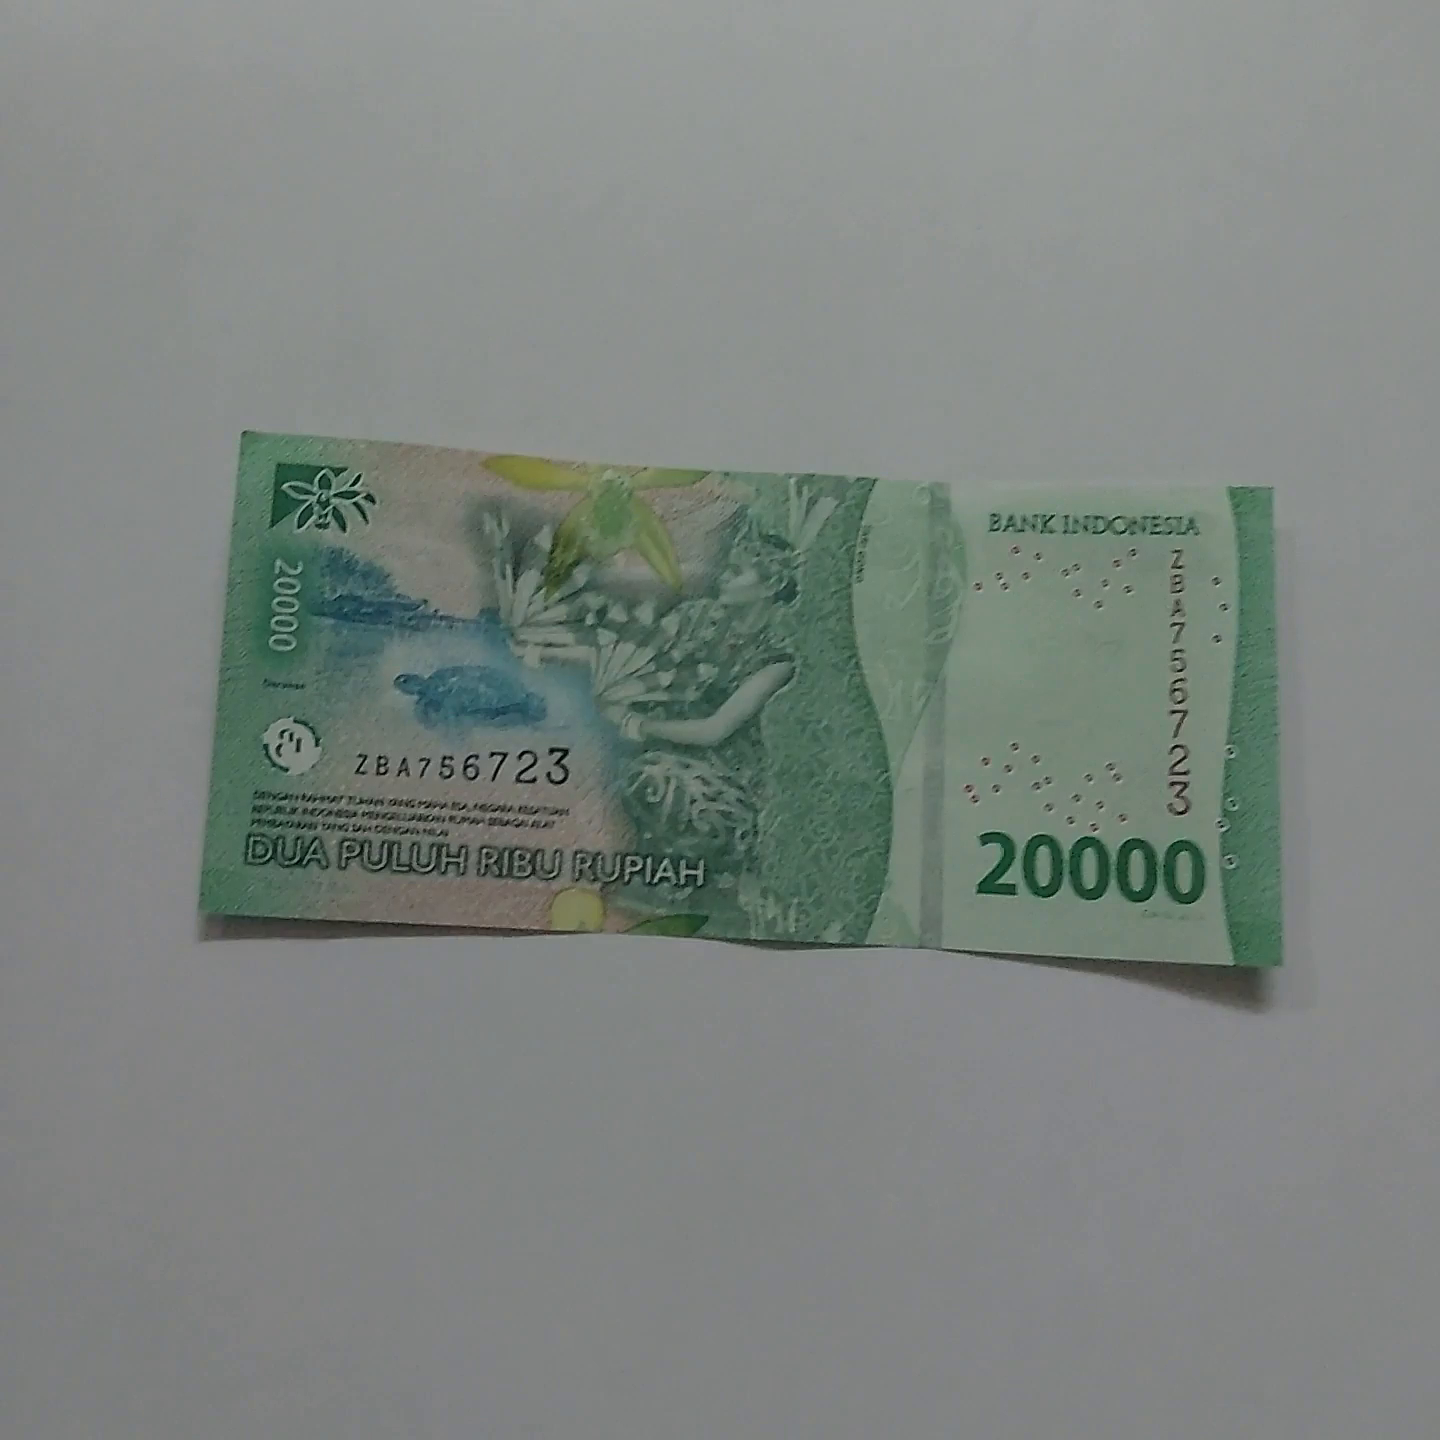20k: (169, 430, 1295, 1013)
